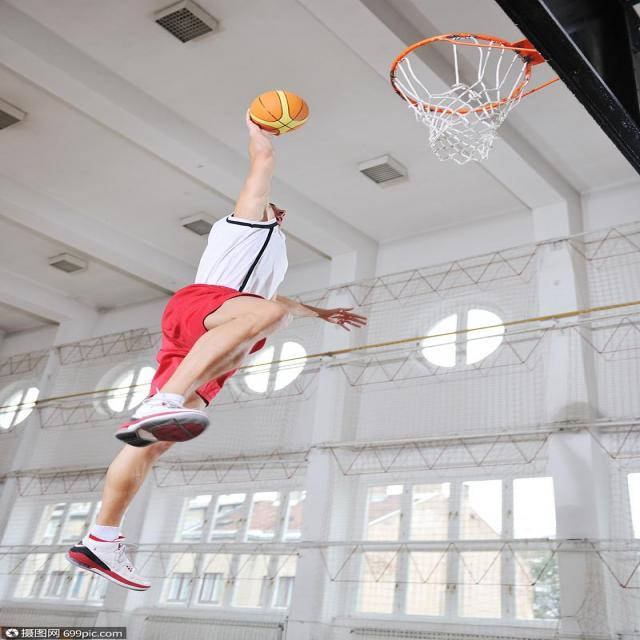rim: (246, 90, 308, 133)
